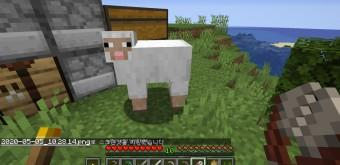sheep: (101, 30, 194, 112)
